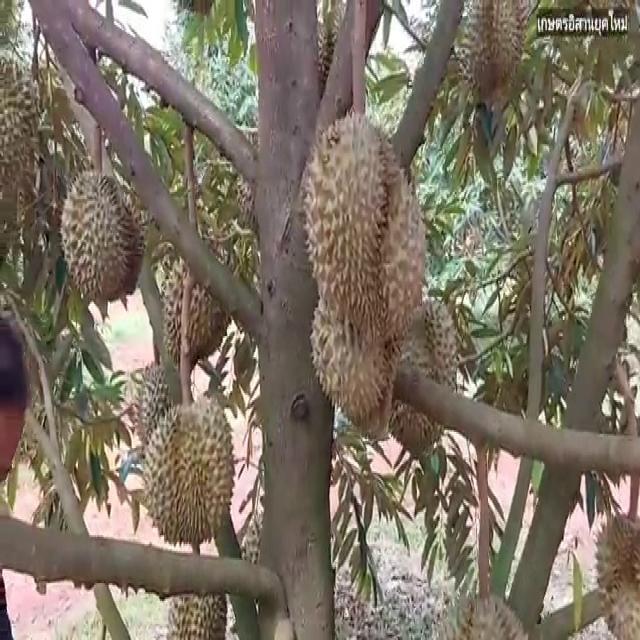durian: (296, 98, 435, 340), (306, 238, 398, 422), (137, 387, 239, 542), (58, 159, 152, 318), (379, 294, 470, 458), (0, 35, 49, 254), (453, 1, 535, 111), (171, 235, 238, 368), (591, 501, 639, 634), (160, 555, 232, 638)
